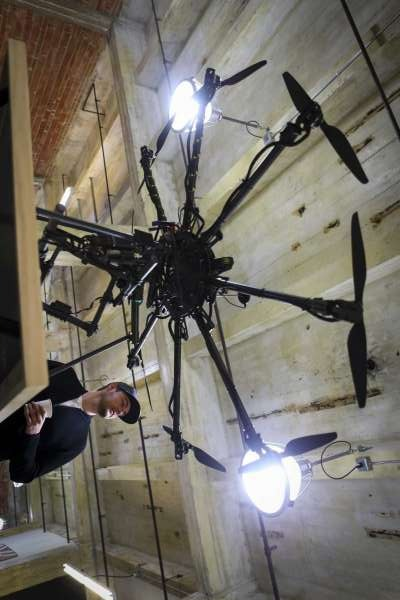drone: (40, 58, 366, 470)
